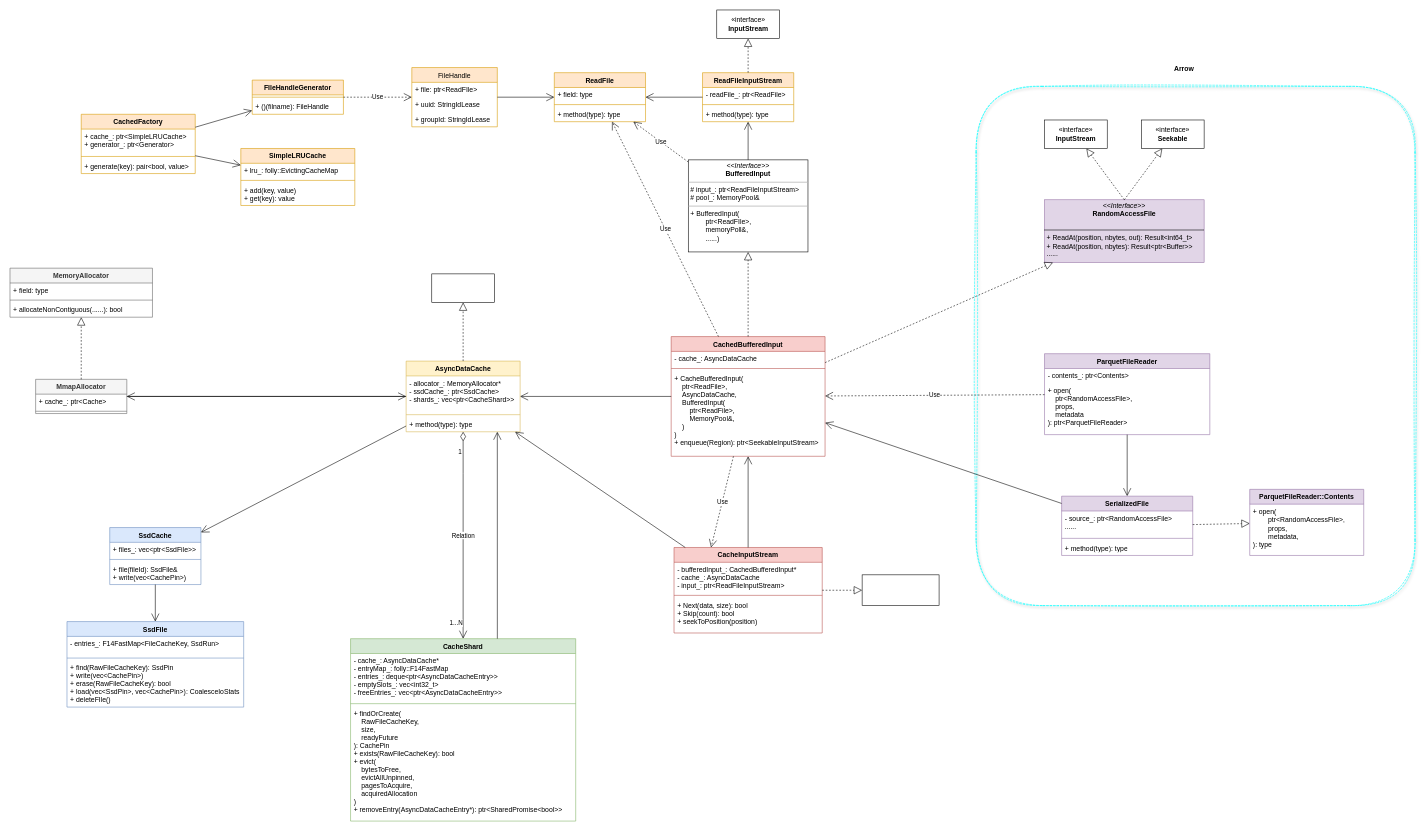
Some shapes in this 1428 by 833 pixel diagram are drawn without their labels. The shapes that lost their labels are listed below. From the top down, each one's centre as x and y in pixels, then its label:
[462,287]: «interface» Cache
[900,590]: «interface» SeekableInputStream
